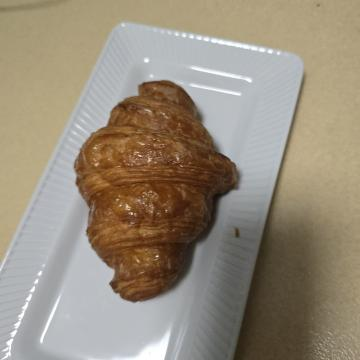croissant: (70, 113, 315, 299)
